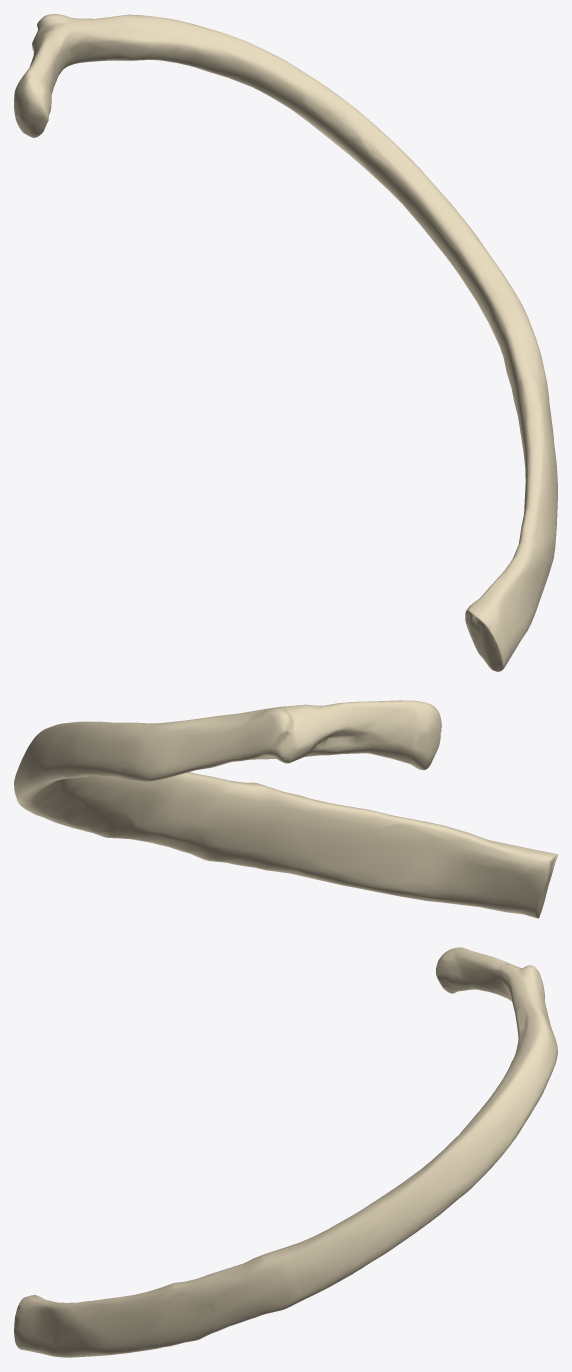
Rendered from esqueleto-fourth-rib-l.glb.
3 renders of one model, top to bottom at view 1: azimuth 30°, elevation 25°; view 2: azimuth 150°, elevation 25°; view 3: azimuth 270°, elevation 25°, orthographic. The views are drawn at different scales.
Parts seen in each view (by area): view 1: Fourth rib.l; view 2: Fourth rib.l; view 3: Fourth rib.l.
Part boxes in pixels (<box>): Fourth rib.l: <box>14,14,557,671</box>; Fourth rib.l: <box>14,700,557,918</box>; Fourth rib.l: <box>14,947,557,1357</box>.
Size of the model in its own units: 0.1096 by 0.1171 by 0.1698.
